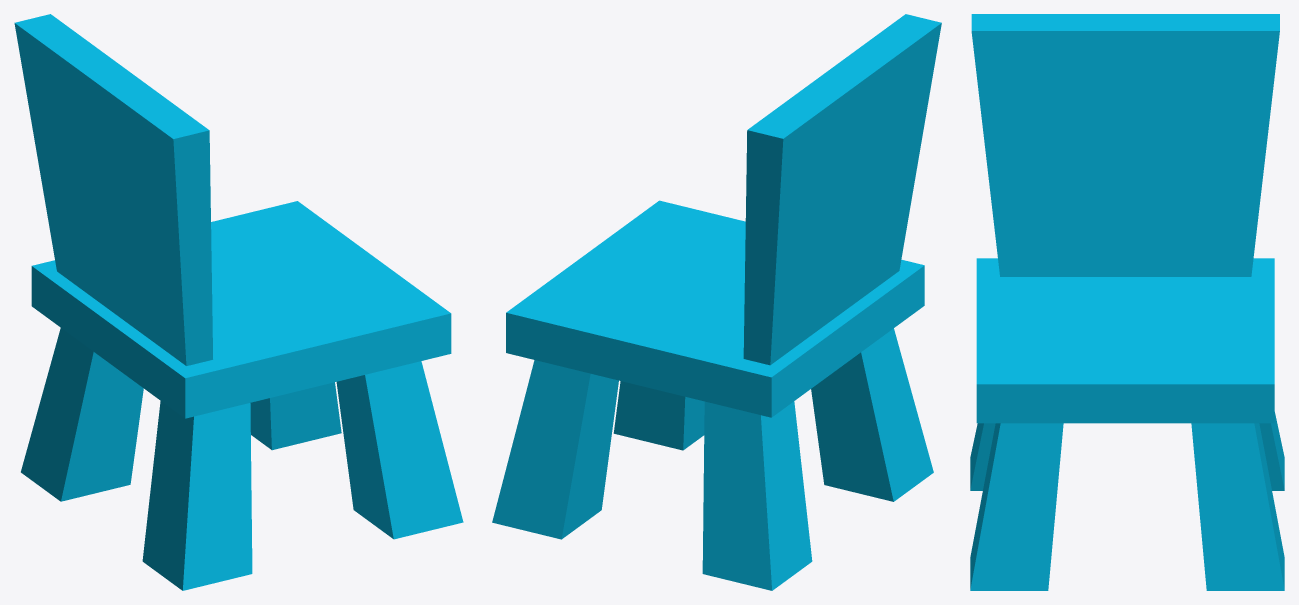
Rendered from Chair2.fbx.
3 views of the same model, side by side, from view 1: azimuth 30°, elevation 25°; view 2: azimuth 150°, elevation 25°; view 3: azimuth 270°, elevation 25° (orthographic). The views are drawn at different scales.
Visible parts, largest first — view 1: Chair2; view 2: Chair2; view 3: Chair2.
Boxes of the visible parts, x1,y1,x2,y2 form: Chair2: (14, 14, 463, 590); Chair2: (492, 14, 941, 590); Chair2: (970, 14, 1284, 590).
Bounding box in the file's own units: 109 × 163 × 106.
